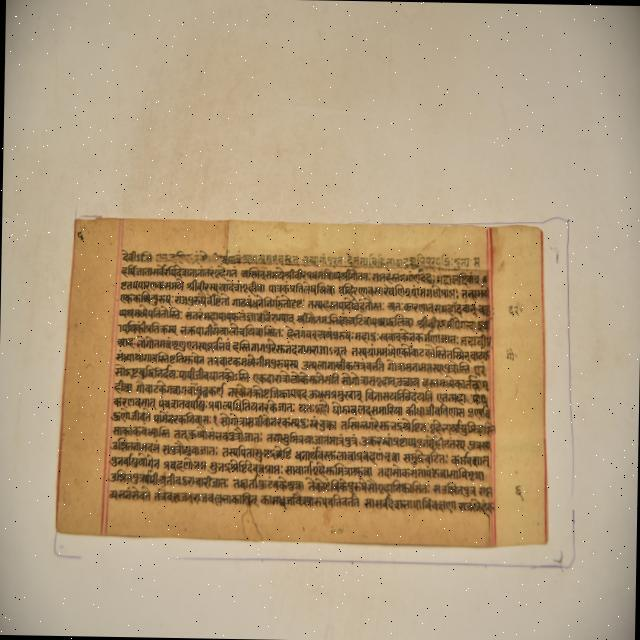text_paragraph: (52, 214, 546, 543)
